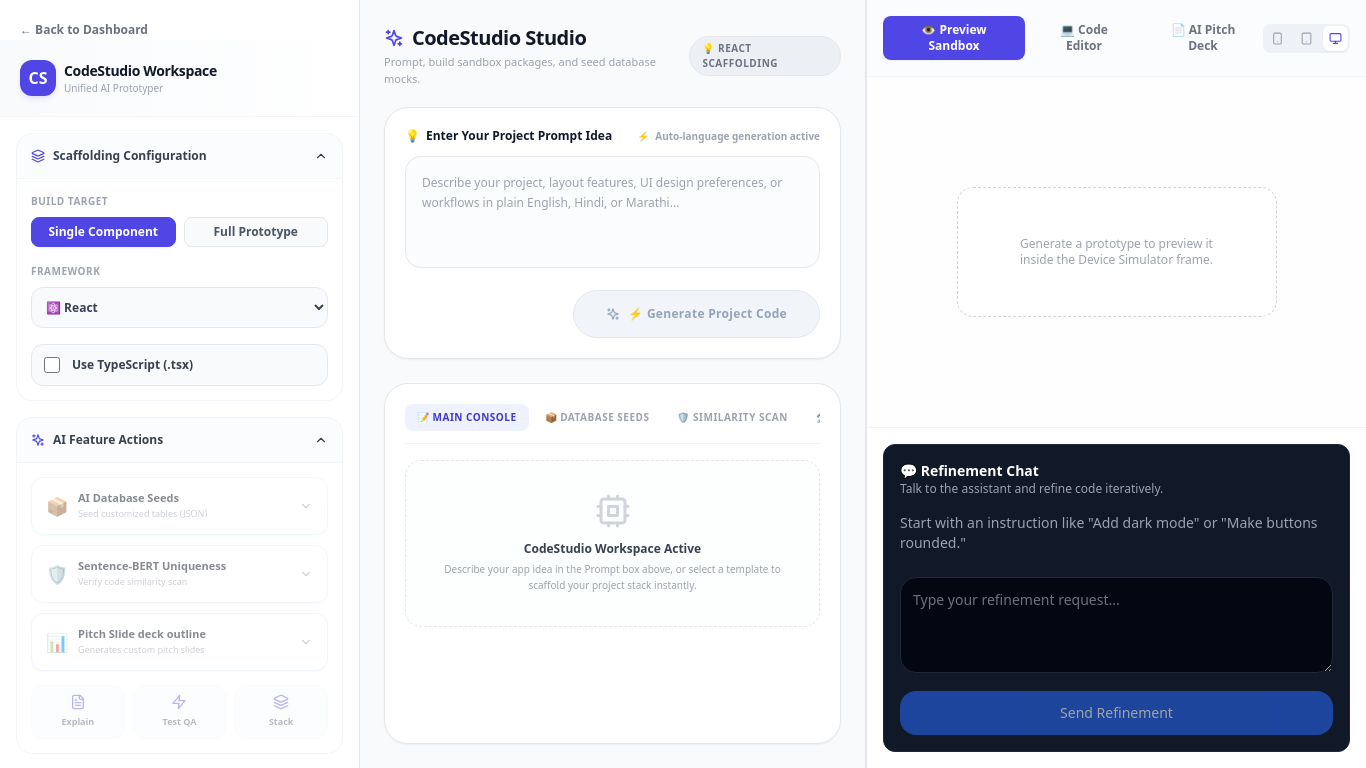
Scenario: CodeStudio Component Tests › enables generate button when description is provided
Type "Create a saas landing page" into the text box with placeholder "Describe your project".
click(612, 212); type("Create a saas landing page")  # box [405,156,820,268]
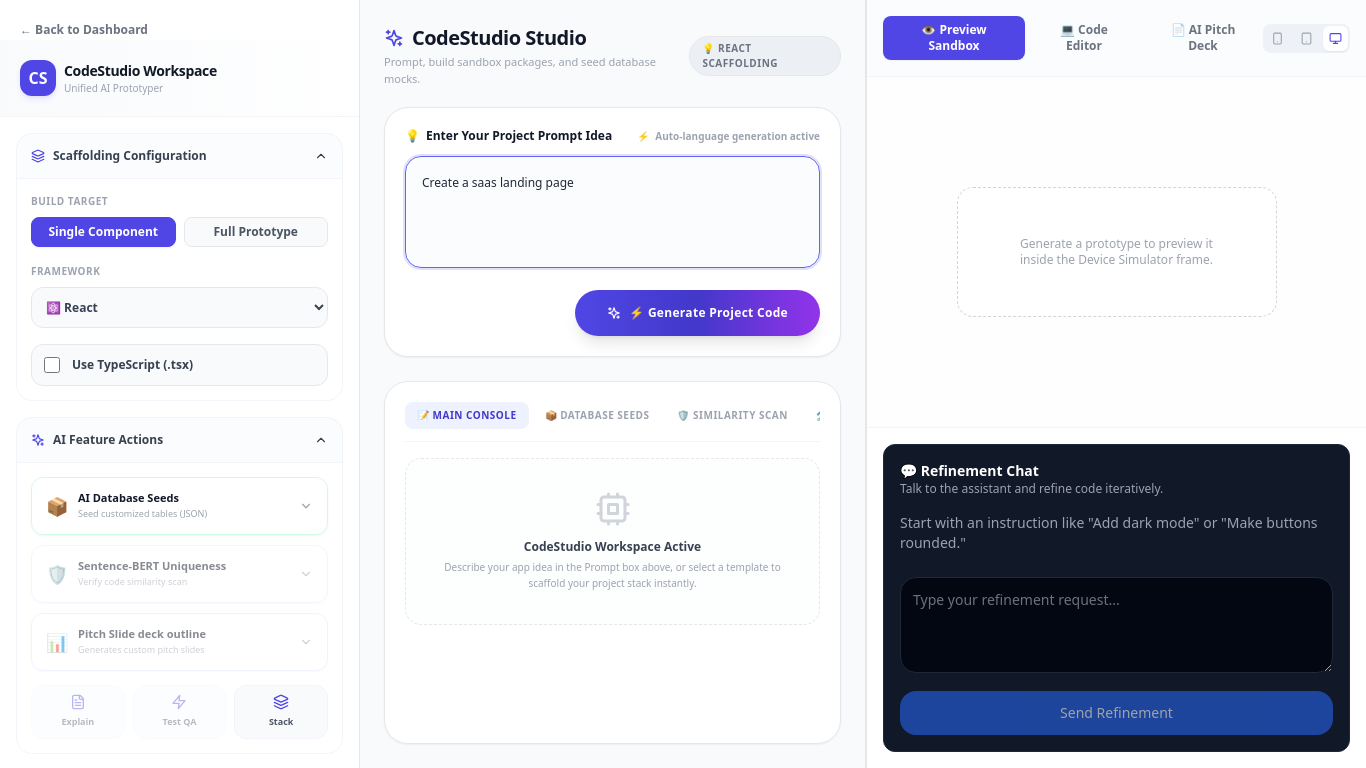
Expected: the button "⚡ Generate Project Code" is enabled, [575,290,820,336]
